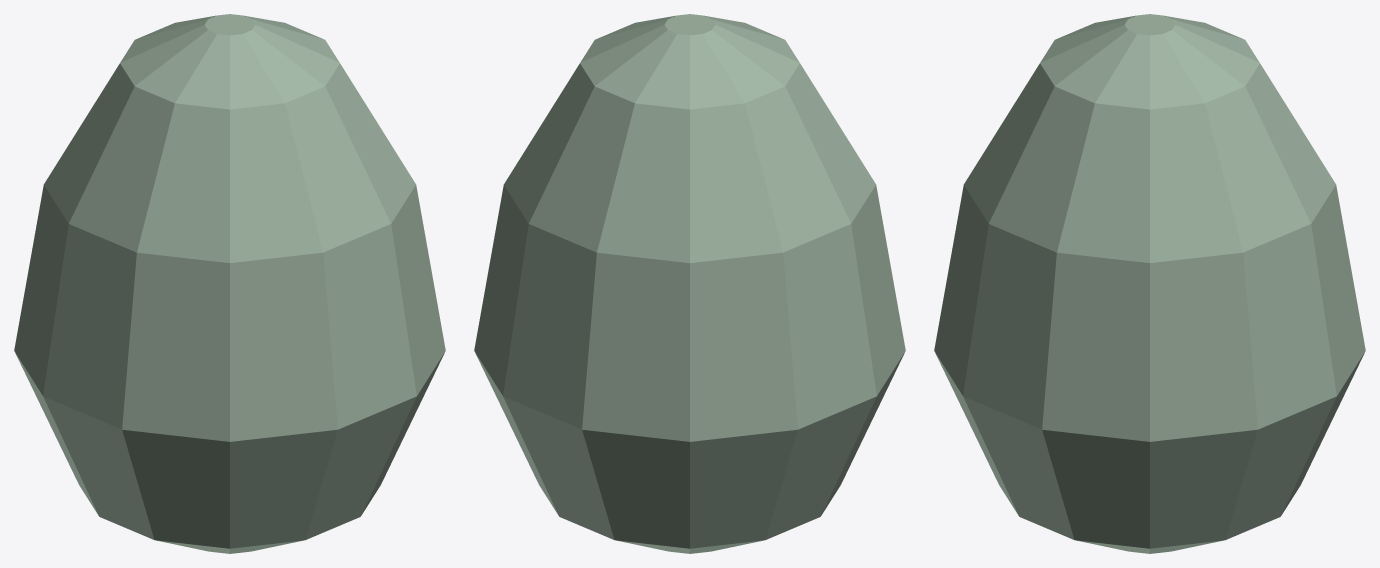
File: duck_egg.glb
The picture shows the model from 3 angles, left to right: view 1: azimuth 30°, elevation 25°; view 2: azimuth 150°, elevation 25°; view 3: azimuth 270°, elevation 25°; orthographic projection.
Visible parts, largest first — view 1: geometry; view 2: geometry; view 3: geometry.
Part boxes in pixels (x1,y1,x2,y2): geometry: (14, 14, 445, 553); geometry: (474, 14, 905, 553); geometry: (934, 14, 1365, 553).
Bounding box in the file's own units: 0.306 × 0.4 × 0.306.
